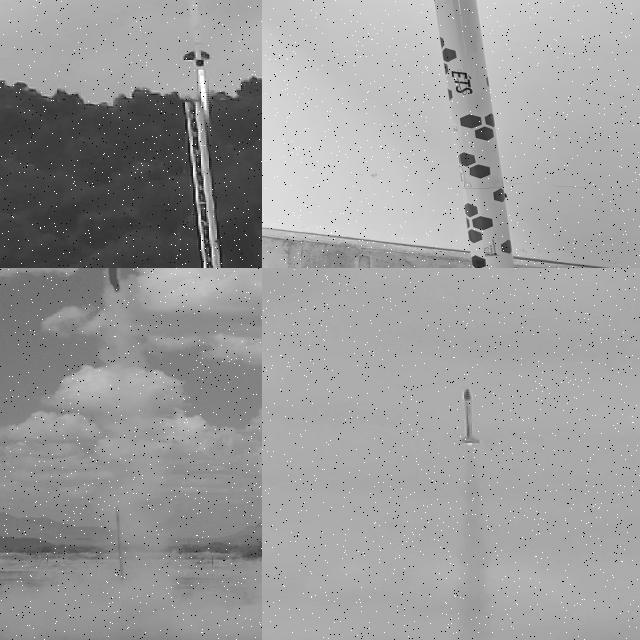Rocket: (434, 0, 514, 268), (178, 0, 211, 68), (461, 388, 480, 444)
